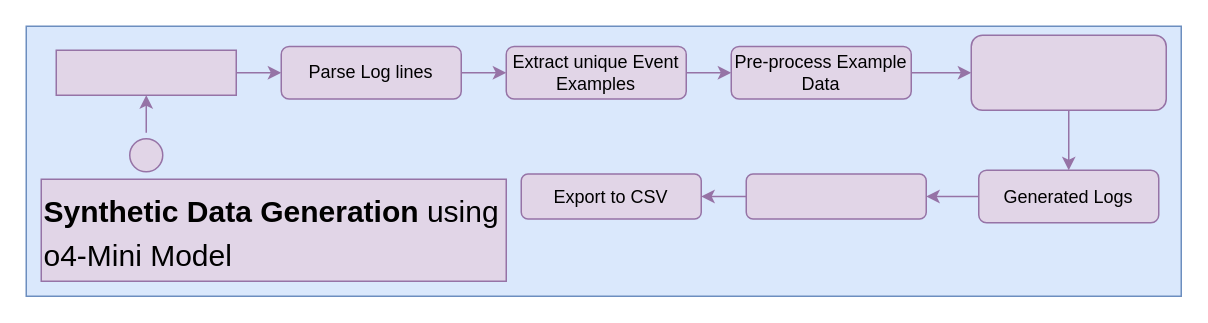
Some shapes in this 1208 by 323 pixel diagram are drawn without their labels. The shapes that lost their labels are listed below. From the top down, each one's centre as x and y in pixels, then its label:
At [145,72]: "Real LTTng Logs".
At [1068,72]: "OpenAI-Client - o4-Mini Model".
At [835,195]: "Convert to Data Frame".
